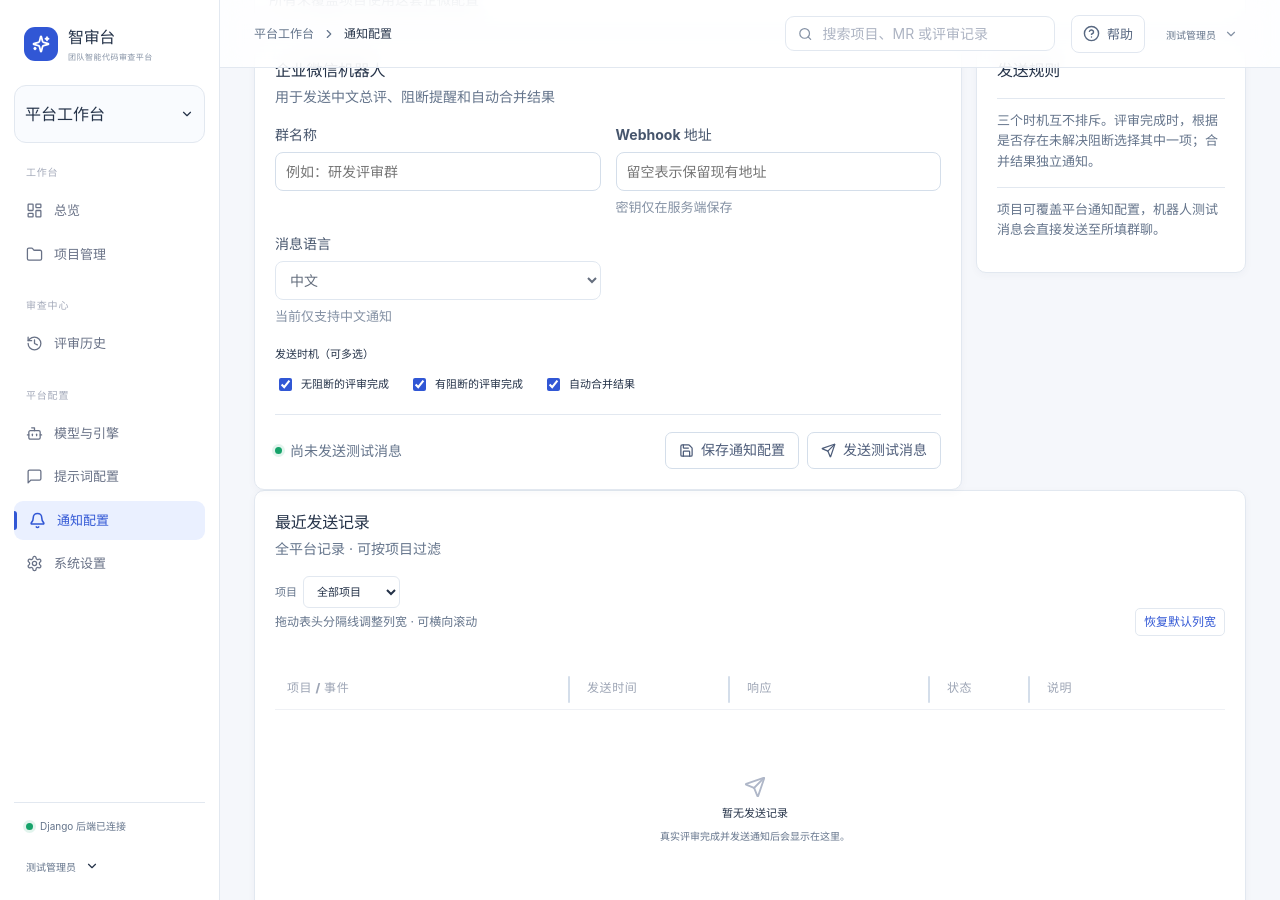
refreshes global delivery records immediately after a notification test success
(page scrolled)
Expected: the text "暂无发送记录" is shown, [722,806,788,822]
Click the button "发送测试消息" at (874, 450), box [807,432,941,469]
(page scrolled)
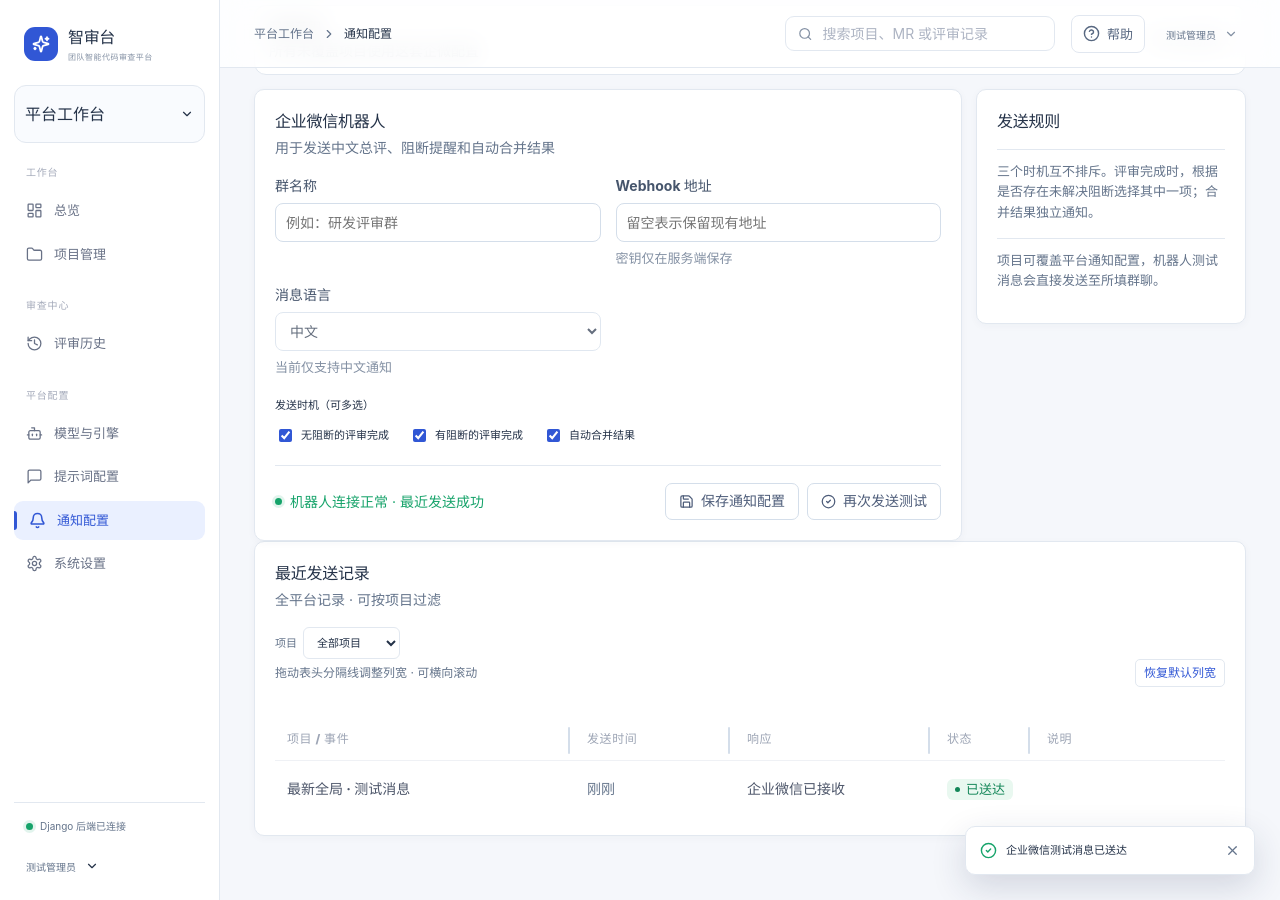
Expected: the text "最新全局 · 测试消息" is shown, [287,780,410,797]
